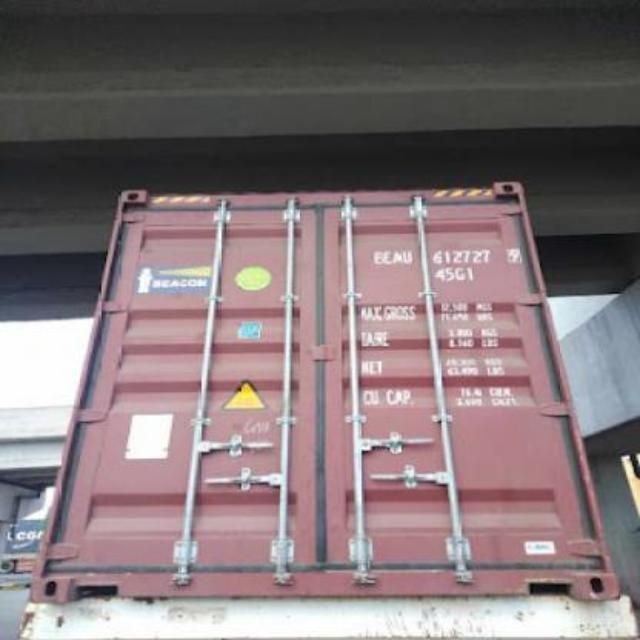1: (442, 246, 452, 262)
2: (450, 246, 460, 264), (470, 247, 480, 263)
6: (430, 248, 442, 262)
7: (478, 246, 490, 264), (460, 246, 470, 262)
9: (504, 247, 520, 263)
A: (390, 244, 400, 266)
B: (372, 248, 382, 262)
E: (382, 248, 392, 264)
U: (400, 240, 412, 266)
